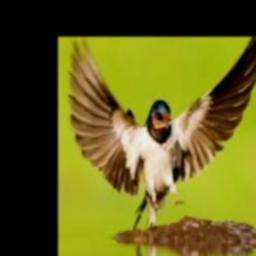Swallow: (69, 37, 256, 229)
